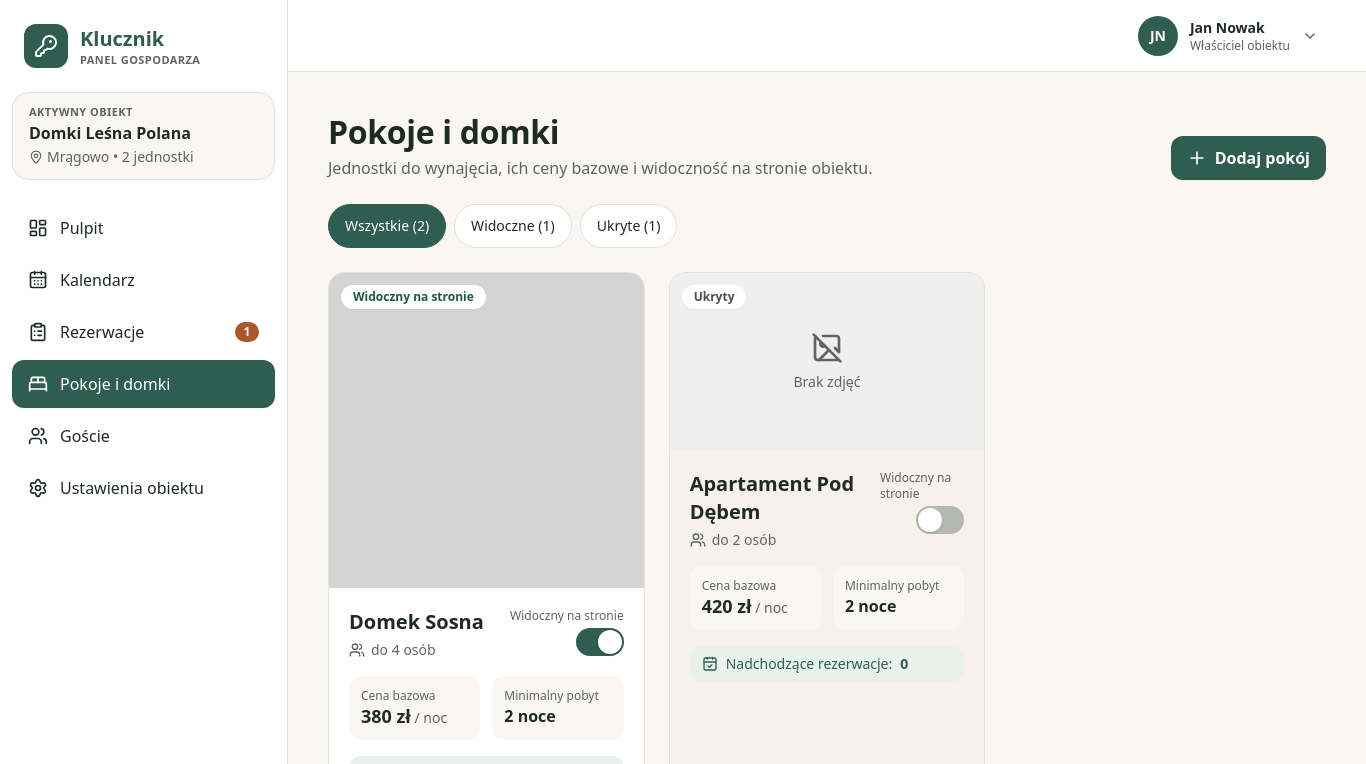
Test: RoomsPage (O6) › BR-10: hiding a room with future reservations → error toast
Click the switch named "Widoczny na stronie" next to "Domek Sosna": (600, 642) [576,628,624,656]
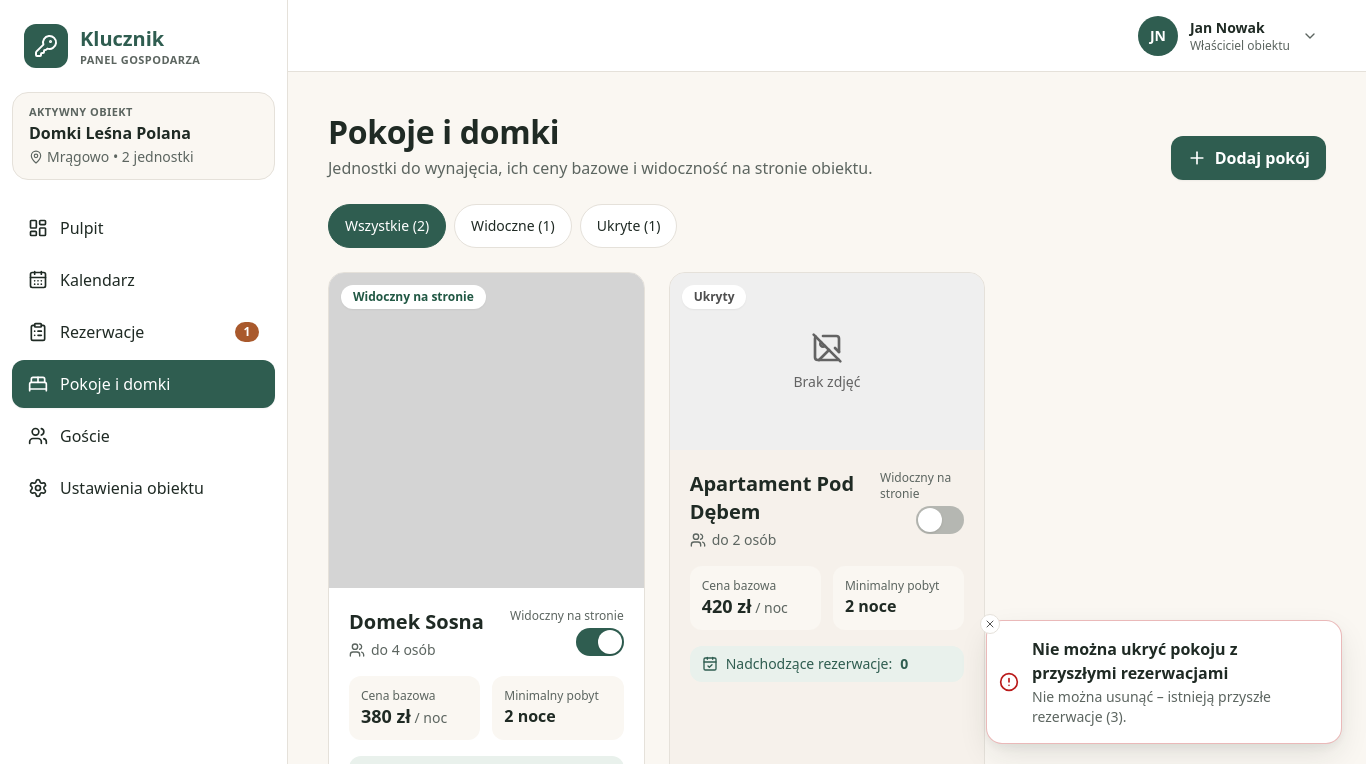
Expected: the text "Nie można ukryć pokoju z przyszłymi rezerwacjami" is shown, [1032,638,1238,684]
Expected: the text "Nie można usunąć – istnieją przyszłe rezerwacje (3)." is shown, [1032,687,1271,726]
